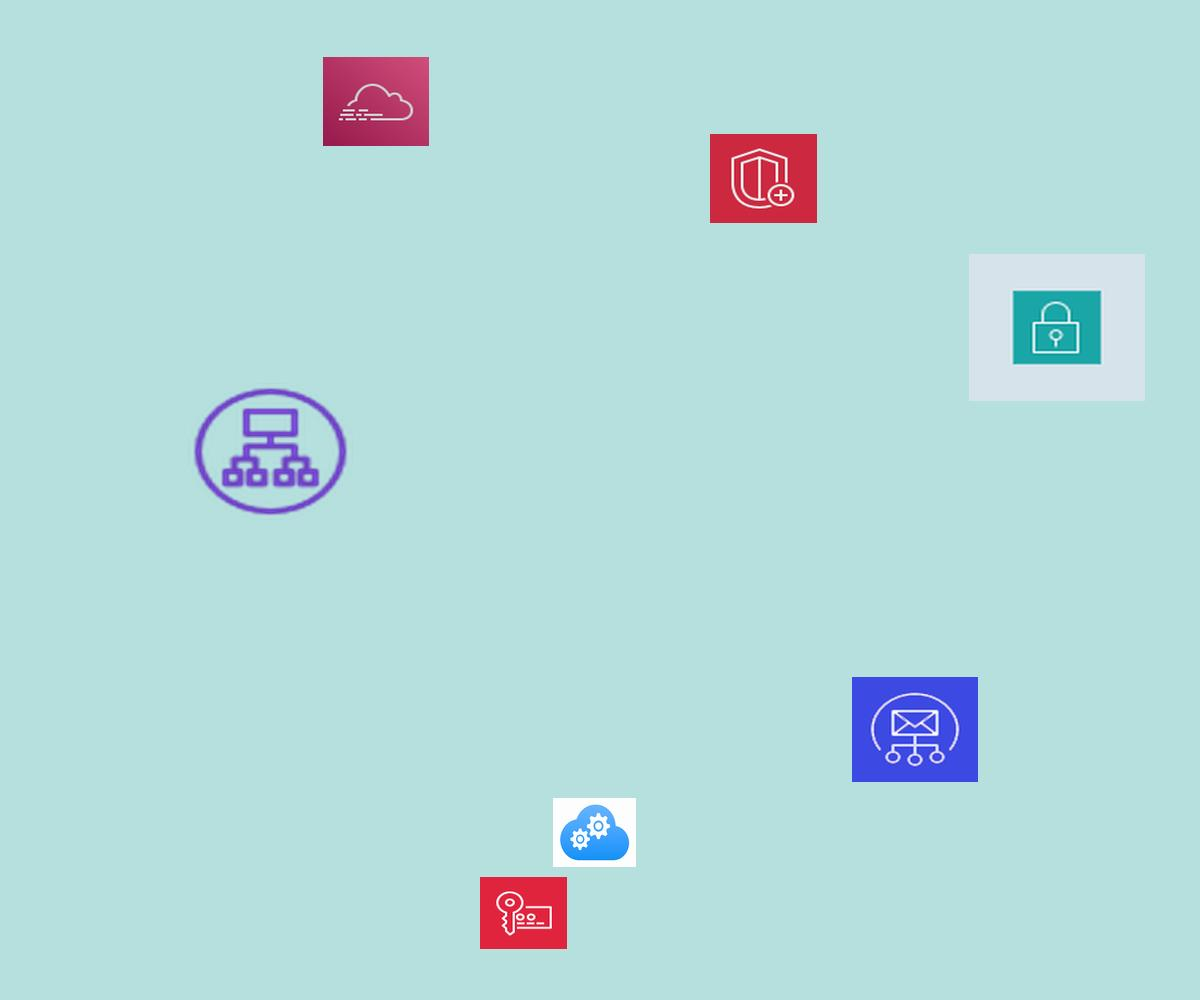AWS-CloudTrail: (323, 57, 429, 146)
AWS-Key-Management-Service: (480, 877, 567, 949)
AWS-Private-subnet: (969, 254, 1145, 401)
AWS-Res_Elastic-Load-Balancing_Application-Load-Balancer: (188, 383, 353, 520)
AWS-Shield: (710, 134, 817, 223)
AWS-Simple-Email-Service: (852, 677, 978, 782)
Azure_cloud_services: (553, 798, 636, 867)
